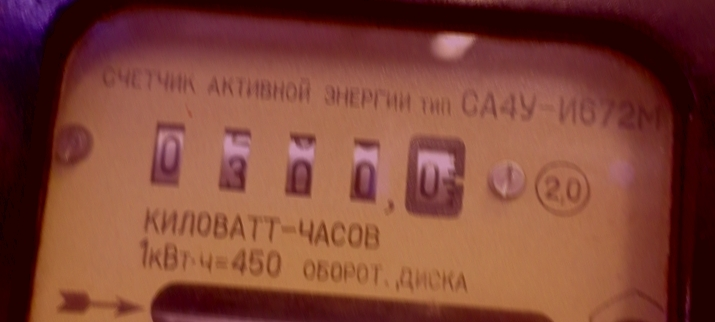0: (350, 156, 378, 202), (156, 130, 182, 178), (414, 157, 442, 201), (286, 155, 312, 197)
3: (222, 152, 247, 192)
screen: (127, 97, 487, 236)
